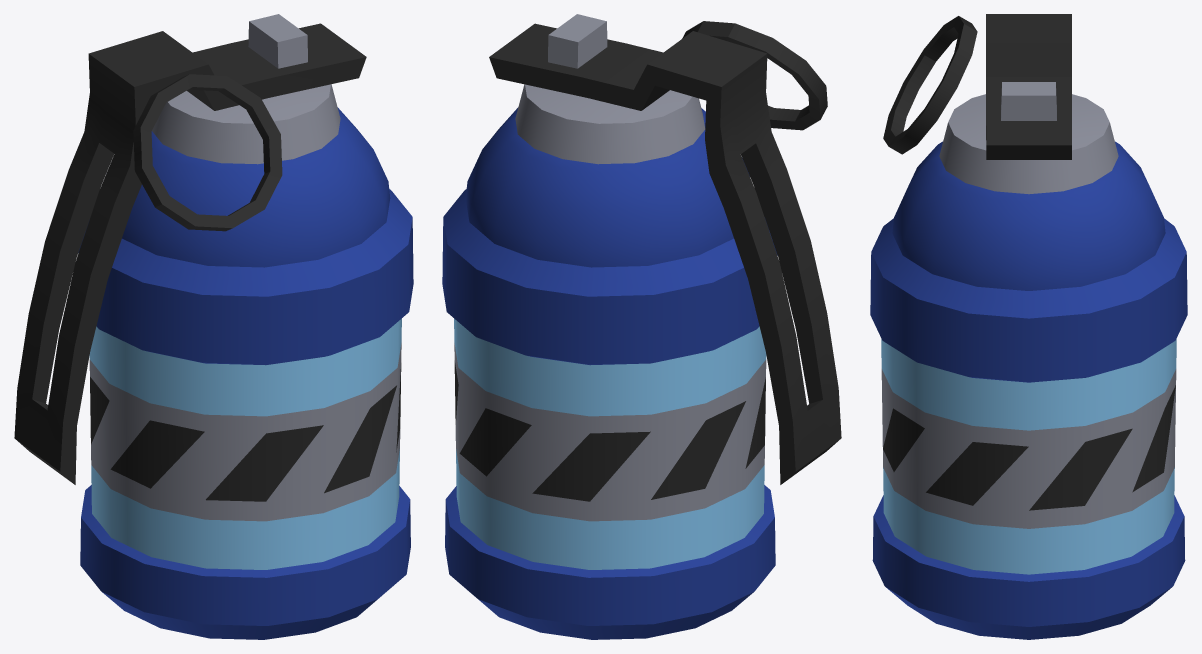
Rendered from FrostBomb.fbx.
3 renders of one model, left to right at view 1: azimuth 30°, elevation 25°; view 2: azimuth 150°, elevation 25°; view 3: azimuth 270°, elevation 25°, orthographic. The views are drawn at different scales.
Visible parts, largest first — view 1: FireGrenade; view 2: FireGrenade; view 3: FireGrenade.
Part boxes in pixels (left/top/right/bottom): FireGrenade: left=14, top=14, right=413, bottom=639; FireGrenade: left=442, top=14, right=841, bottom=639; FireGrenade: left=870, top=14, right=1187, bottom=639.
Size of the model in its own units: 1.14 by 1.7 by 0.9413.
